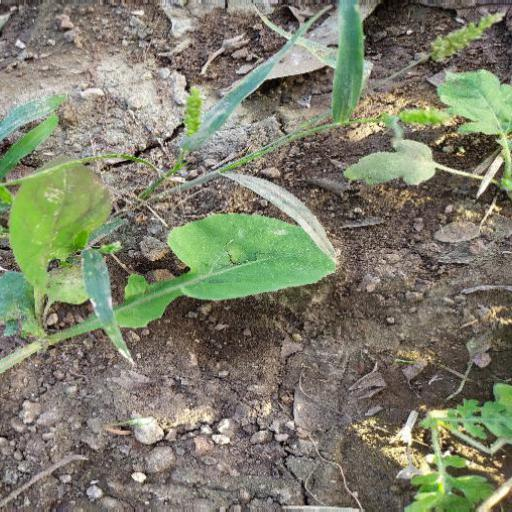weed: (5, 116, 344, 408), (320, 64, 512, 217), (371, 382, 510, 512)
